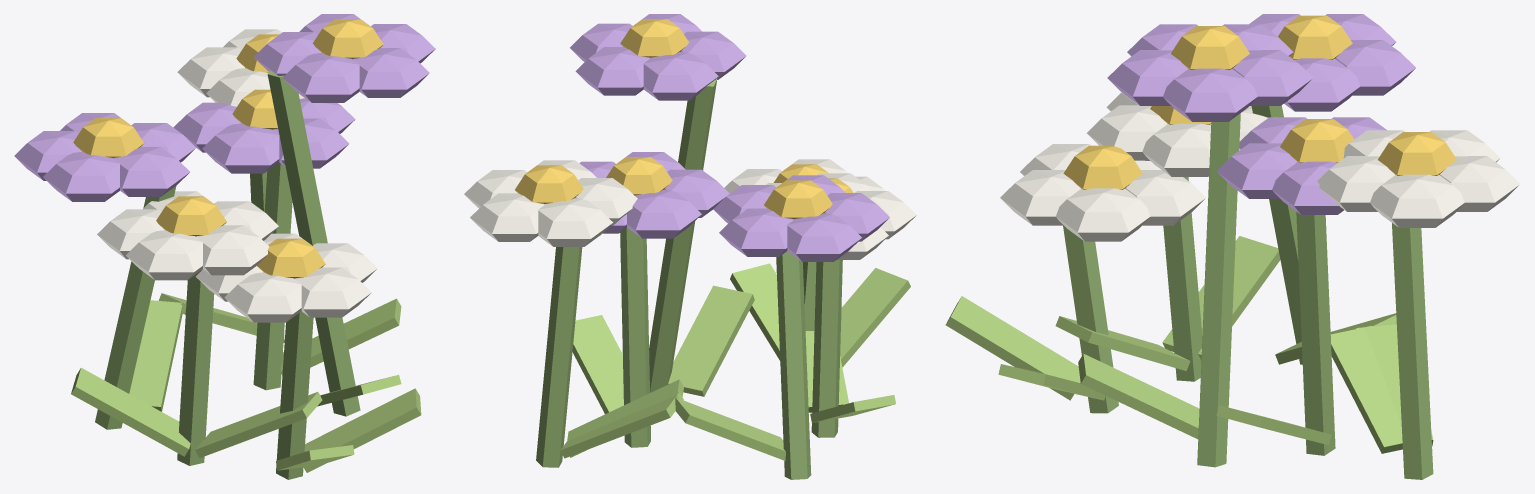
The model's file is flowers_violet.glb.
3 views of the same model, side by side, from view 1: azimuth 30°, elevation 25°; view 2: azimuth 150°, elevation 25°; view 3: azimuth 270°, elevation 25° (orthographic). The views are drawn at different scales.
Parts seen in each view (by area): view 1: flowers_violet; view 2: flowers_violet; view 3: flowers_violet.
Part boxes in pixels (left/top/right/bottom): flowers_violet: left=14, top=14, right=435, bottom=479; flowers_violet: left=464, top=14, right=916, bottom=479; flowers_violet: left=945, top=14, right=1519, bottom=479.
Bounding box in the file's own units: 0.629 × 0.6623 × 0.7876.
